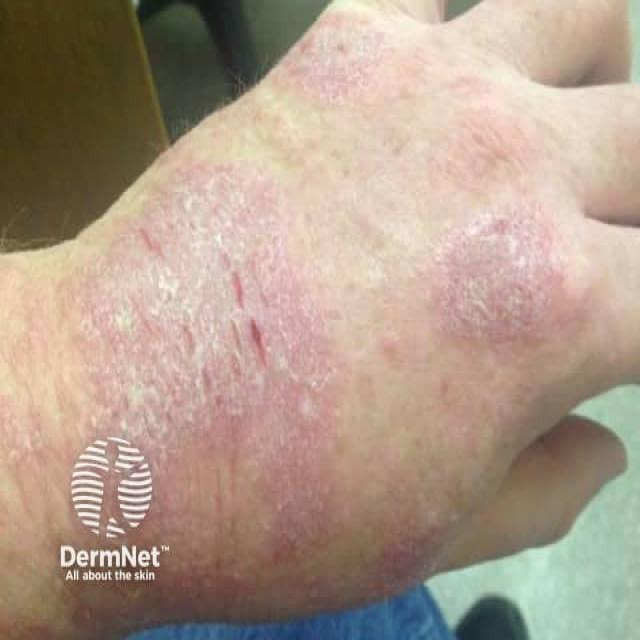Eczema: (58, 38, 559, 560)
